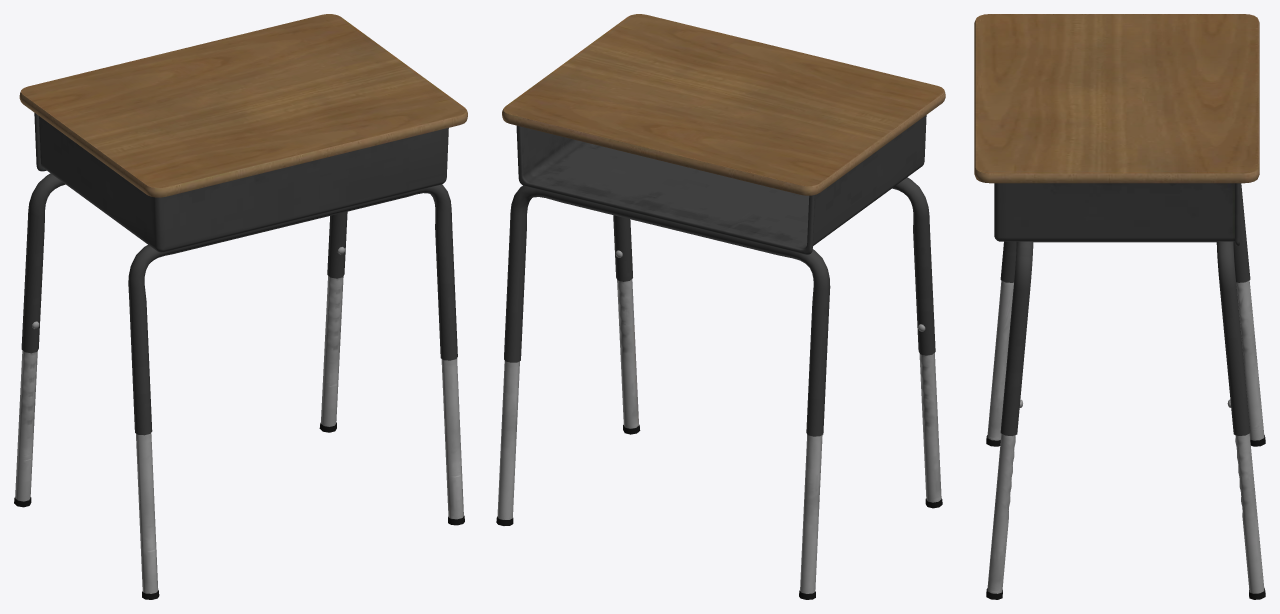
File: SchoolDesk_01.glb
3 renders of one model, left to right at view 1: azimuth 30°, elevation 25°; view 2: azimuth 150°, elevation 25°; view 3: azimuth 270°, elevation 25°, orthographic. The views are drawn at different scales.
Parts seen in each view (by area): view 1: SchoolDesk_01; view 2: SchoolDesk_01; view 3: SchoolDesk_01.
Boxes of the visible parts, x1,y1,x2,y2 form: SchoolDesk_01: (14, 14, 467, 599); SchoolDesk_01: (496, 14, 945, 599); SchoolDesk_01: (974, 14, 1265, 599).
Bounding box in the file's own units: 0.7117 × 0.8826 × 0.546.
Materials: 1 (1 with a texture image).
